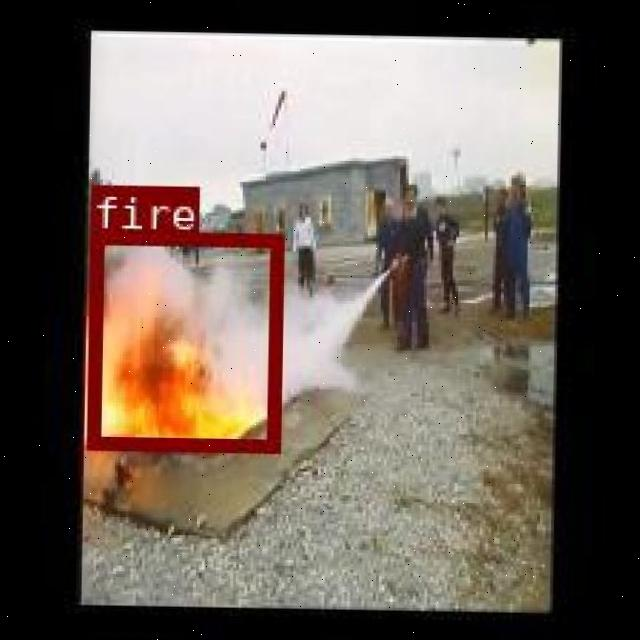fire: (86, 230, 280, 448)
